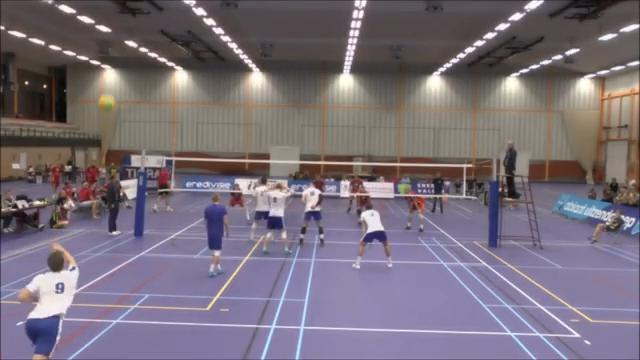Player: (18, 243, 78, 359), (353, 204, 391, 268), (262, 183, 291, 254), (204, 193, 228, 276), (299, 181, 323, 245), (249, 177, 269, 241), (405, 191, 424, 231), (347, 176, 363, 212), (356, 186, 371, 223), (229, 184, 244, 207), (312, 175, 324, 191)
ball: (95, 95, 116, 112)
